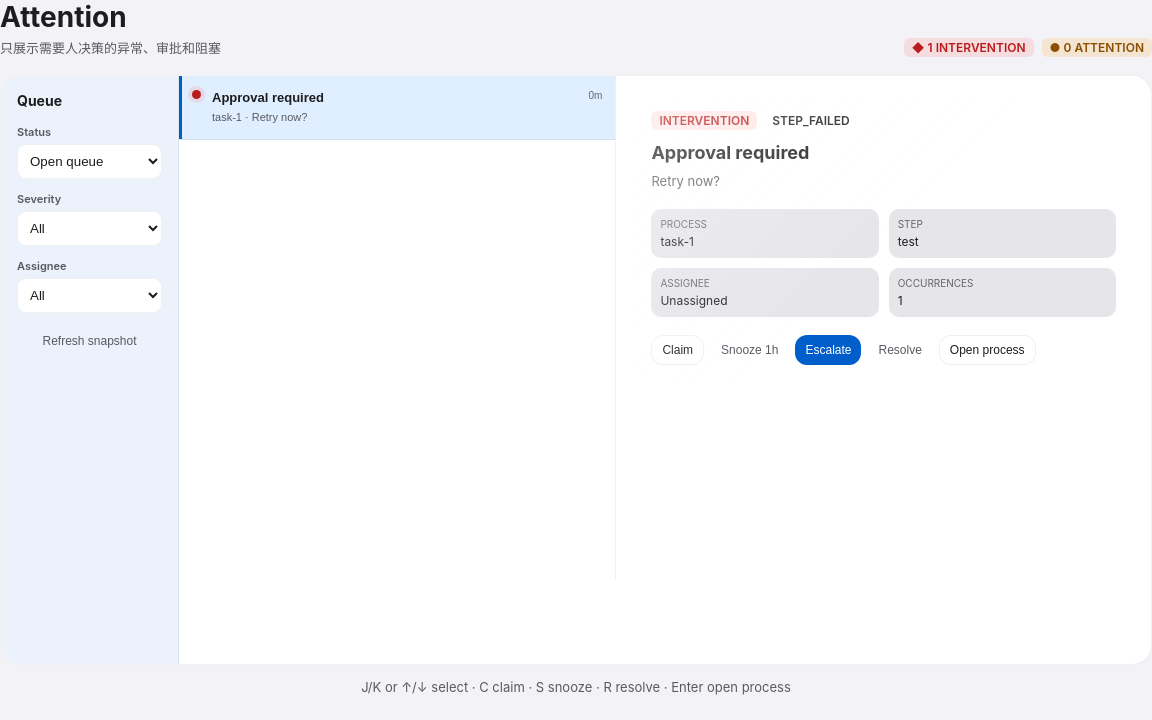
Test: AttentionInbox component › confirms advertised actions and removes resolved work from the active queue
Check: the text "Retry now?" is shown, box top-left (651, 173), bottom-right (720, 189)
Step 1. Click the button "Escalate" → x=828, y=350, box top-left (796, 335), bottom-right (862, 365)
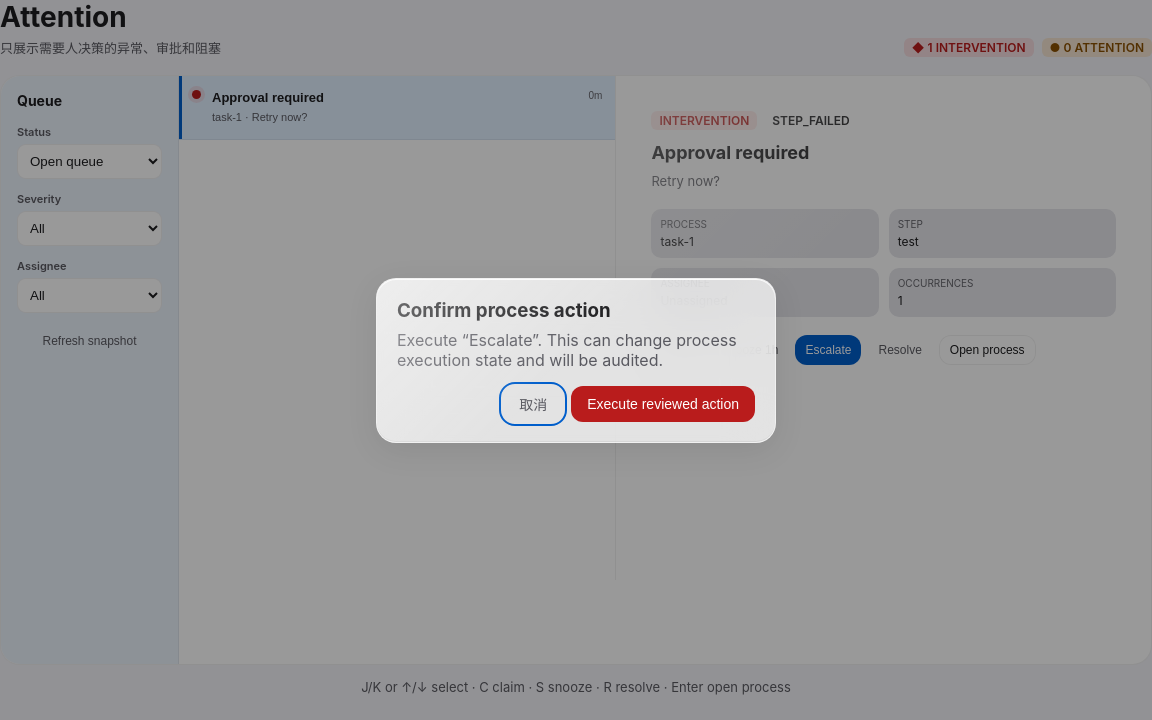
Step 2. Click the button "Execute reviewed action" → x=663, y=404, box top-left (571, 386), bottom-right (755, 422)
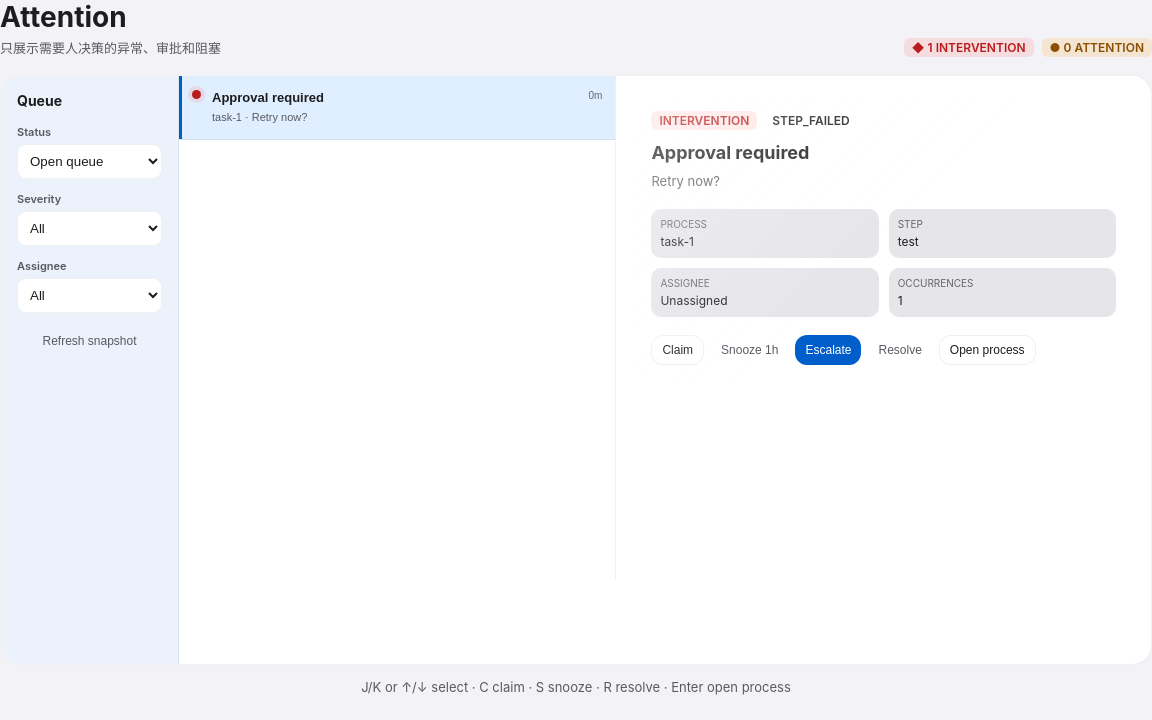
Step 3. Click the button "Resolve" → x=900, y=350, box top-left (868, 335), bottom-right (932, 365)
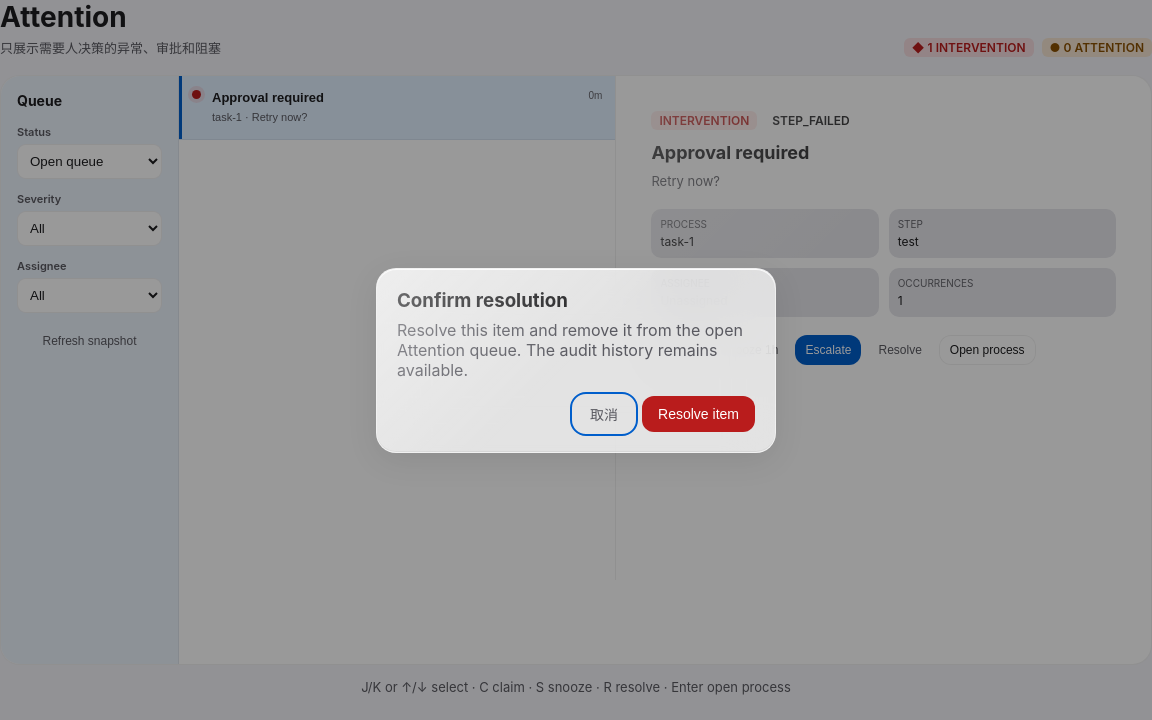
Step 4. Click the button "Resolve item" → x=699, y=414, box top-left (642, 396), bottom-right (755, 432)
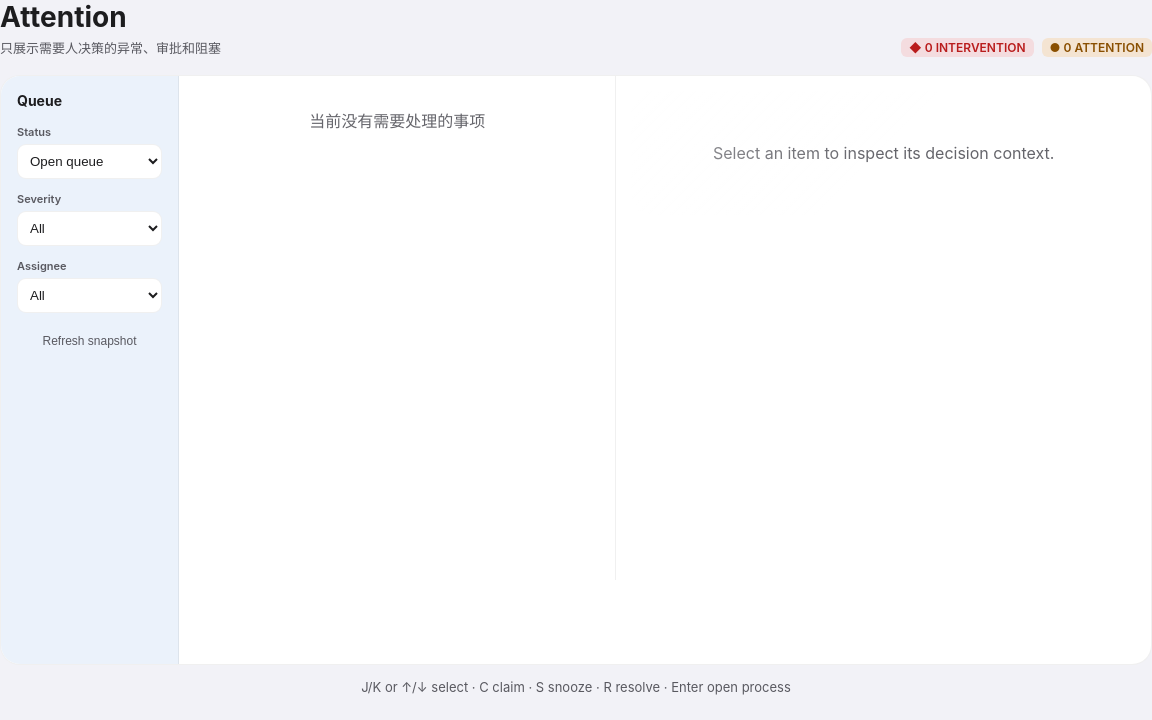
Check: the text "当前没有需要处理的事项" is shown, box top-left (309, 111), bottom-right (485, 131)
